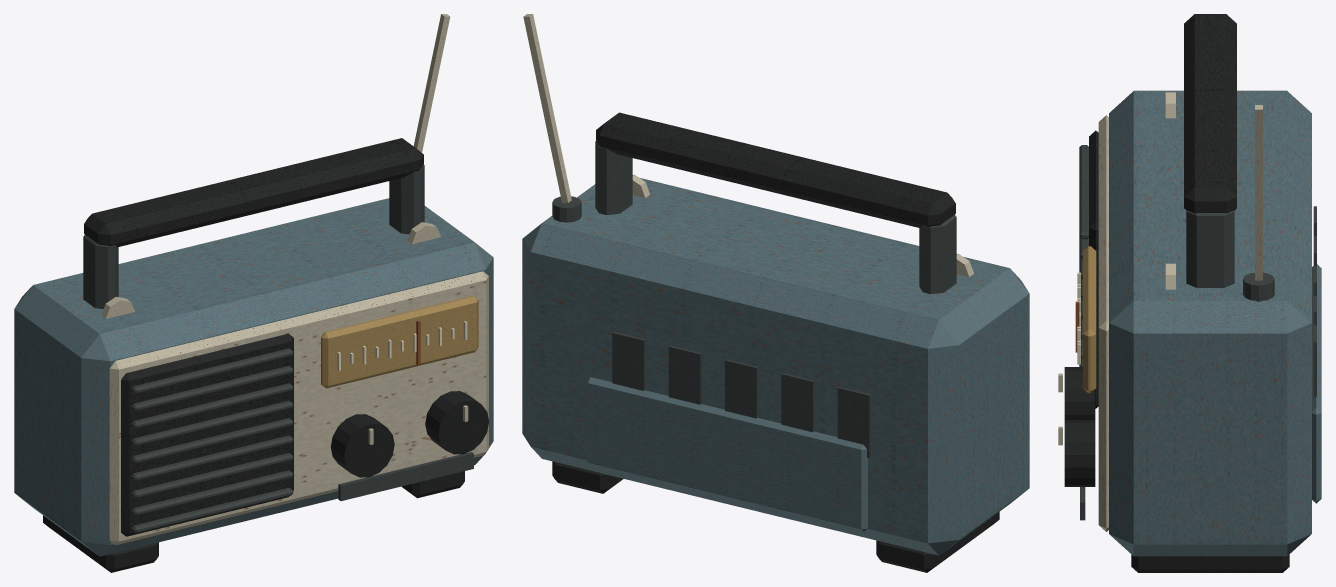
Rendered from PortableRadio.fbx.
3 views of the same model, side by side, from view 1: azimuth 30°, elevation 25°; view 2: azimuth 150°, elevation 25°; view 3: azimuth 270°, elevation 25° (orthographic). The views are drawn at different scales.
Parts seen in each view (by area): view 1: PortableRadio; view 2: PortableRadio; view 3: PortableRadio.
Part boxes in pixels (x1,y1,x2,y2): PortableRadio: [14, 14, 493, 572]; PortableRadio: [522, 14, 1029, 572]; PortableRadio: [1058, 14, 1321, 572].
Size of the model in its own units: 63.44 by 61.1 by 29.85.
1 material, 1 textured.
